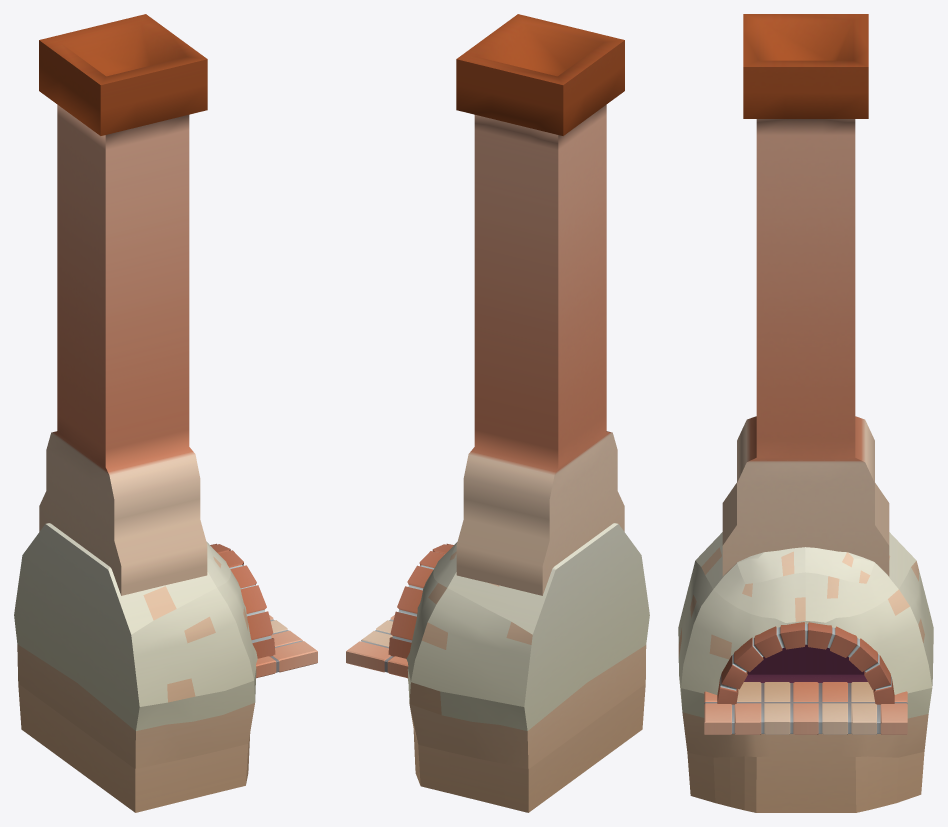
File: Oven.fbx
3 views of the same model, side by side, from view 1: azimuth 30°, elevation 25°; view 2: azimuth 150°, elevation 25°; view 3: azimuth 270°, elevation 25° (orthographic).
Visible parts, largest first — view 1: pCube22, oven1, oven2, oven3; view 2: pCube22, oven1, oven2, oven3; view 3: pCube22, oven1, oven3, oven2.
Part boxes in pixels (box(x1,y1,x2,y2)): pCube22: box(39, 14, 207, 595); oven1: box(14, 523, 257, 812); oven2: box(210, 543, 275, 658); oven3: box(256, 615, 317, 678); pCube22: box(456, 14, 624, 595); oven1: box(406, 523, 649, 812); oven2: box(388, 543, 453, 658); oven3: box(346, 615, 408, 678); pCube22: box(722, 14, 889, 576); oven1: box(678, 532, 933, 812); oven3: box(704, 682, 907, 734); oven2: box(717, 622, 894, 704).
Size of the model in its own units: 2.36 by 8.1 by 2.6.
